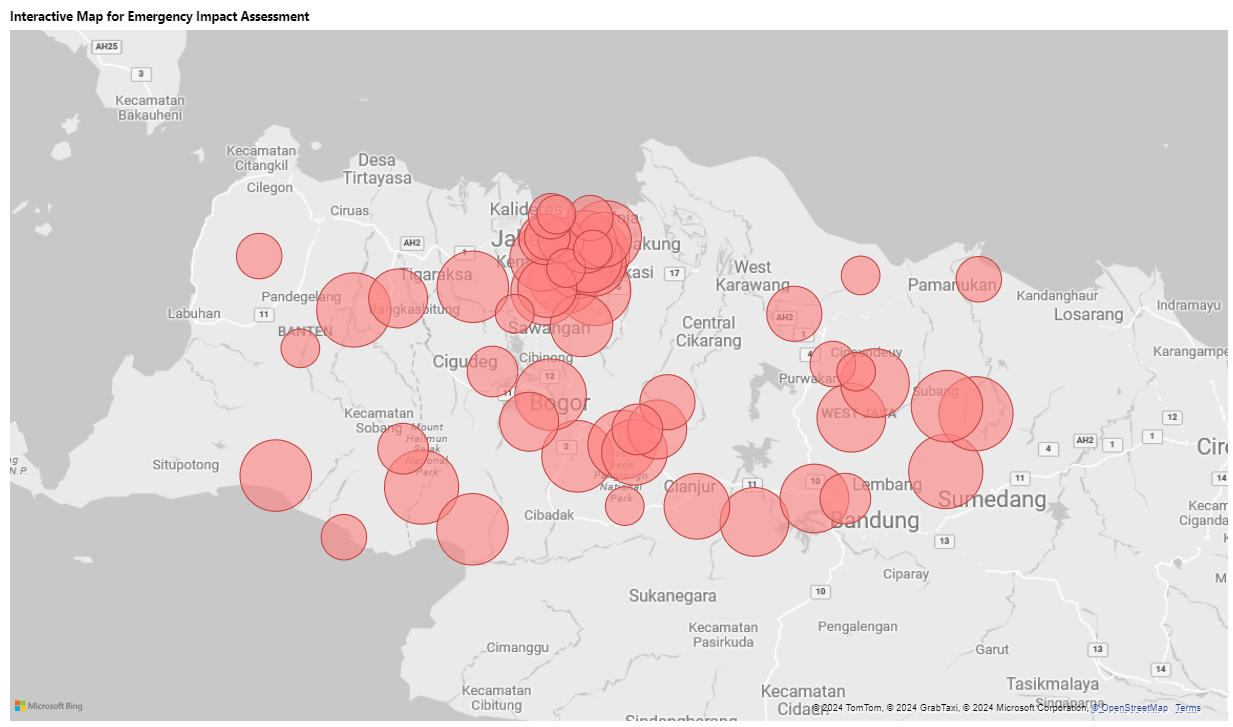

The dashboard page shown, as its layout file describes it:
{"tool":"powerbi","page":{"name":"C06","canvas":[1280,720],"ordinal":14},"visuals":[{"type":"map","title":"Interactive Map for Emergency Impact Assessment","fields":{"Y":["dummy.Location_Latitude"],"X":["dummy.Location_Longitude"],"Size":["Sum(dummy.Structural_Damage)"]},"box":[41.6,17,1169.8,684.1],"z":0}]}

Visuals, with their boxes on the page's 1280x720 design canvas (x1, y1, x2, y2). These are canvas units, not pixel positions in the 1233x727 screenshot, which may show the page scaled, cropped or inside an application window:
"Interactive Map for Emergency Impact Assessment" map: bbox=(42, 17, 1211, 701)
